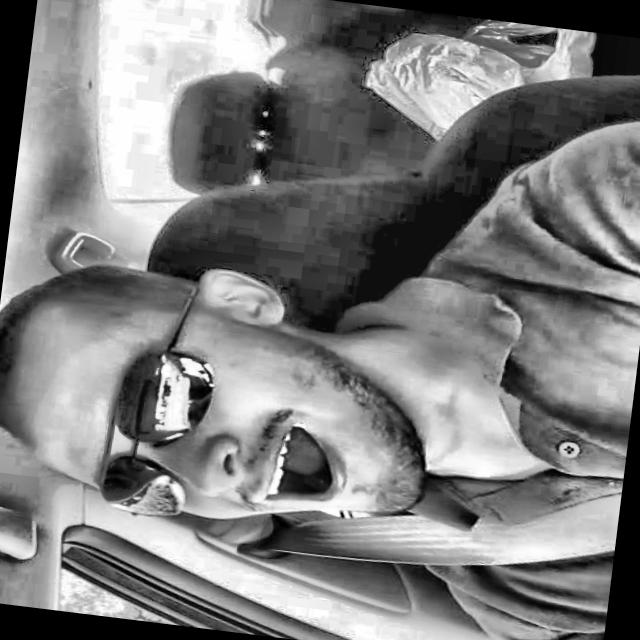open_mouth: (244, 413, 357, 533)
